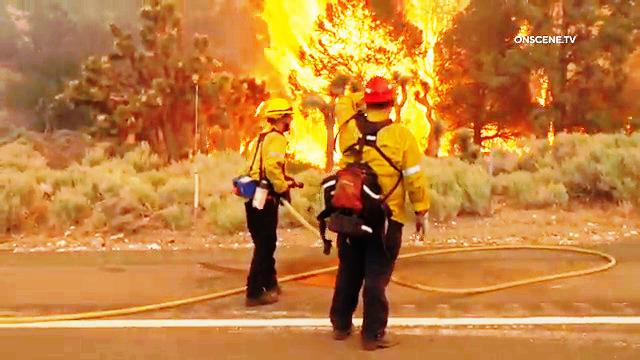fire: (266, 1, 433, 69)
